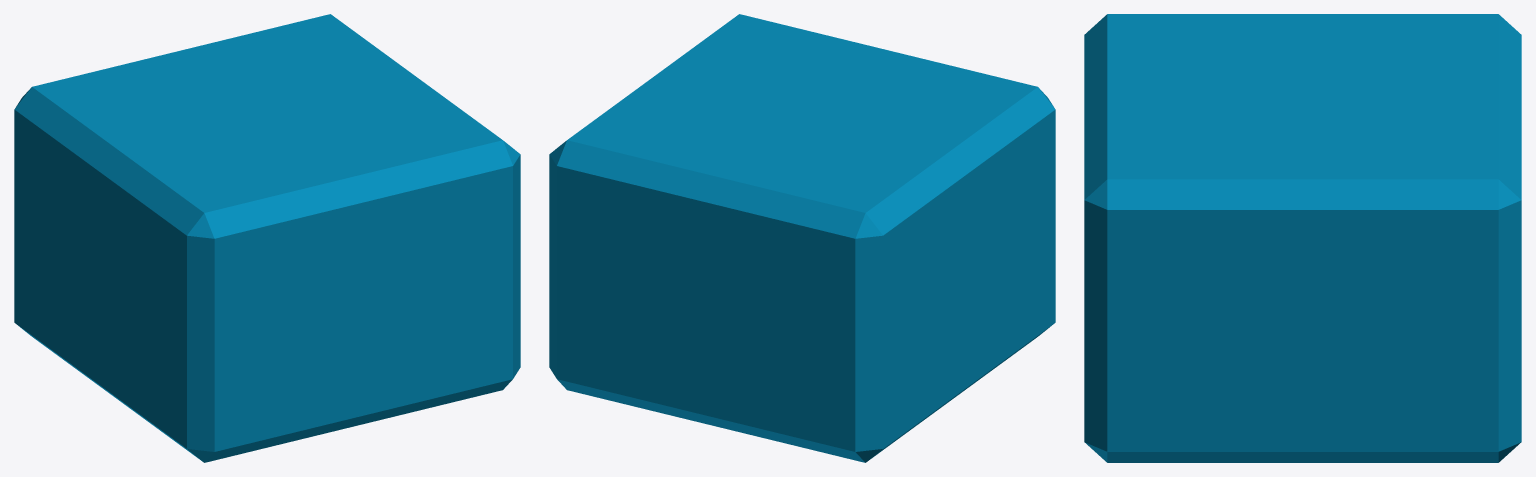
The model's file is terrain-blue-wall.glb.
The picture shows the model from 3 angles, left to right: view 1: azimuth 30°, elevation 25°; view 2: azimuth 150°, elevation 25°; view 3: azimuth 270°, elevation 25°; orthographic projection. The views are drawn at different scales.
Visible parts, largest first — view 1: terrain-blue-wall; view 2: terrain-blue-wall; view 3: terrain-blue-wall.
Part boxes in pixels (bbox=[...]): terrain-blue-wall: bbox=[14, 14, 520, 462]; terrain-blue-wall: bbox=[549, 14, 1055, 462]; terrain-blue-wall: bbox=[1084, 14, 1521, 462].
Size of the model in its own units: 0.95 by 0.68 by 0.95.
